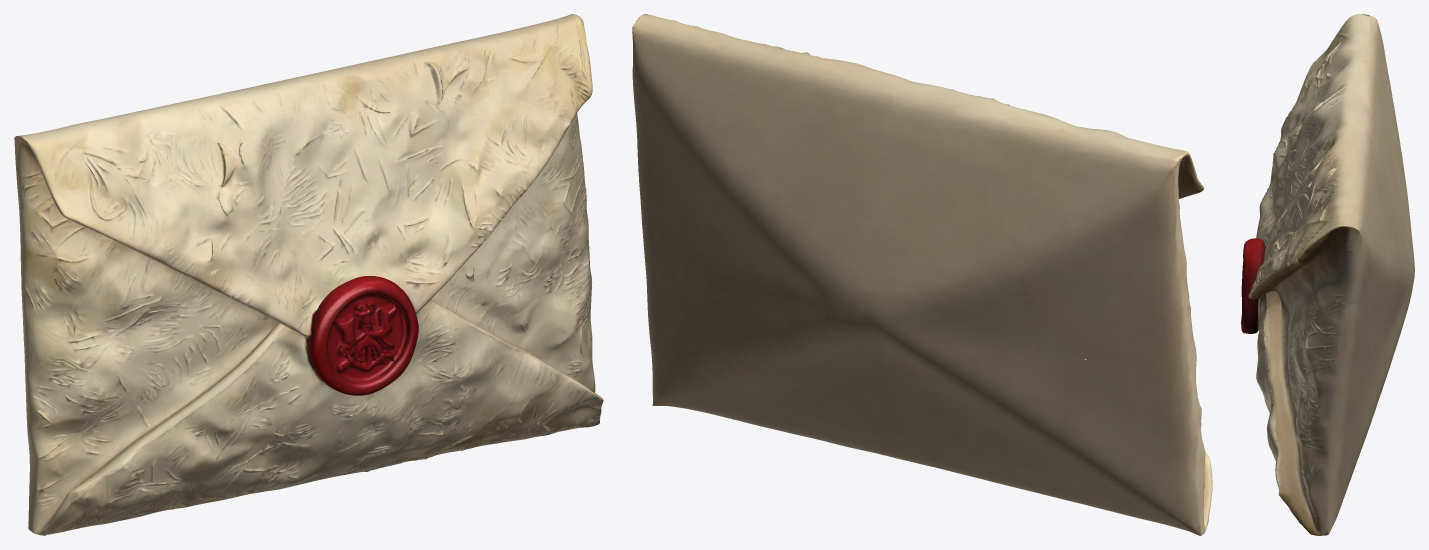
The model's file is letter.glb.
3 views of the same model, side by side, from view 1: azimuth 30°, elevation 25°; view 2: azimuth 150°, elevation 25°; view 3: azimuth 270°, elevation 25° (orthographic). The views are drawn at different scales.
Parts seen in each view (by area): view 1: tripo_node_87c735ff-7c44-45f7-afec-6fa2c3213450; view 2: tripo_node_87c735ff-7c44-45f7-afec-6fa2c3213450; view 3: tripo_node_87c735ff-7c44-45f7-afec-6fa2c3213450.
Part boxes in pixels (x1,y1,x2,y2): tripo_node_87c735ff-7c44-45f7-afec-6fa2c3213450: (14, 14, 603, 535); tripo_node_87c735ff-7c44-45f7-afec-6fa2c3213450: (632, 14, 1212, 535); tripo_node_87c735ff-7c44-45f7-afec-6fa2c3213450: (1241, 14, 1414, 535).
Size of the model in its own units: 0.9789 by 0.6717 by 0.3379.
Materials: 1 (1 with a texture image).
